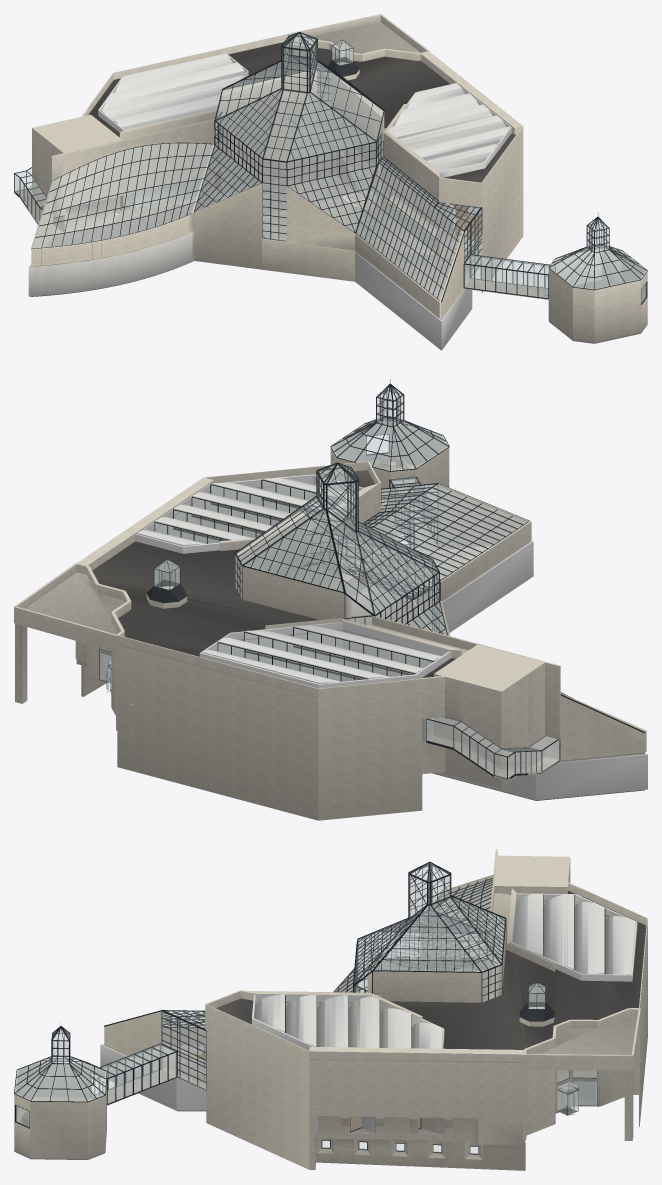
Rendered from building.glb.
3 views of the same model, one above another, from view 1: azimuth 30°, elevation 25°; view 2: azimuth 150°, elevation 25°; view 3: azimuth 270°, elevation 25° (orthographic). The views are drawn at different scales.
Visible parts, largest first — view 1: ENT-01-L00_GLASS, R37_GH_EAST_PORTAL_METAL_HEAD, P05_FRONT_0, P05_MAIN_ATRIUM_BASE_3, R99_W_GROUND_GALLERY_ENTRY_WALL, R24_SHELL_E_00, R82_ENTRY_INNER_WALL, P05_MAIN_ROOF_DECK, P05_FLOOR_L00_GH, R51_SHADE_1_GLASS_00_00, P05_WEST_END, R111_W_GALLERY_APPROACH_SOFFIT (+19 smaller); view 2: P05_FRONT_0, ENT-01-L00_GLASS, R99_W_GROUND_GALLERY_ENTRY_WALL, R37_GH_EAST_PORTAL_METAL_HEAD, P05_MAIN_ROOF_DECK, R24_SHELL_E_00, P05_MAIN_ATRIUM_BASE_3, R14_INNER_WALL_A, R51_SHADE_1_GLASS_00_00, P07_CANOPY_SLAB_ENVELOPE, P05_WEST_END, R111_W_GALLERY_APPROACH_SOFFIT (+11 smaller); view 3: P05_FRONT_0, ENT-01-L00_GLASS, R27_CONTINUOUS_HEAD, R24_SHELL_E_00, R37_GH_EAST_PORTAL_METAL_HEAD, P05_MAIN_ROOF_DECK, R99_W_GROUND_GALLERY_ENTRY_WALL, P07_CORNER_SUPPORT_ENVELOPE, R94_EAST_HIGH_WALL_JOIN, P05_MAIN_ATRIUM_BASE_3, P07_CANOPY_SLAB_ENVELOPE, R111_W_GALLERY_APPROACH_SOFFIT (+13 smaller).
Boxes of the visible parts, x1,y1,x2,y2 form: ENT-01-L00_GLASS: (14, 33, 646, 302); R37_GH_EAST_PORTAL_METAL_HEAD: (31, 32, 647, 304); P05_FRONT_0: (87, 34, 647, 342); P05_MAIN_ATRIUM_BASE_3: (119, 70, 440, 234); R99_W_GROUND_GALLERY_ENTRY_WALL: (28, 53, 645, 350); R24_SHELL_E_00: (100, 53, 510, 252); R82_ENTRY_INNER_WALL: (51, 119, 214, 232); P05_MAIN_ROOF_DECK: (88, 42, 515, 182); P05_FLOOR_L00_GH: (31, 117, 647, 343); R51_SHADE_1_GLASS_00_00: (217, 58, 374, 160); P05_WEST_END: (31, 179, 355, 250); R111_W_GALLERY_APPROACH_SOFFIT: (35, 62, 523, 238); P05_FRONT_0: (117, 447, 529, 820); ENT-01-L00_GLASS: (100, 386, 559, 778); R99_W_GROUND_GALLERY_ENTRY_WALL: (100, 422, 647, 800); R37_GH_EAST_PORTAL_METAL_HEAD: (154, 383, 644, 733); P05_MAIN_ROOF_DECK: (92, 470, 456, 677); R24_SHELL_E_00: (137, 478, 639, 762); P05_MAIN_ATRIUM_BASE_3: (235, 483, 461, 658); R14_INNER_WALL_A: (421, 673, 528, 786); R51_SHADE_1_GLASS_00_00: (245, 503, 436, 613); P07_CANOPY_SLAB_ENVELOPE: (14, 563, 123, 652); P05_WEST_END: (413, 590, 646, 760); R111_W_GALLERY_APPROACH_SOFFIT: (117, 485, 542, 735); P05_FRONT_0: (14, 888, 647, 1169); ENT-01-L00_GLASS: (15, 863, 596, 1153); R27_CONTINUOUS_HEAD: (309, 1047, 525, 1145); R24_SHELL_E_00: (254, 893, 635, 1048); R37_GH_EAST_PORTAL_METAL_HEAD: (14, 861, 605, 1128); P05_MAIN_ROOF_DECK: (216, 891, 646, 1049); R99_W_GROUND_GALLERY_ENTRY_WALL: (16, 893, 637, 1134); P07_CORNER_SUPPORT_ENVELOPE: (523, 1008, 639, 1140); R94_EAST_HIGH_WALL_JOIN: (205, 991, 525, 1170); P05_MAIN_ATRIUM_BASE_3: (241, 888, 516, 1002); P07_CANOPY_SLAB_ENVELOPE: (524, 1008, 640, 1070); R111_W_GALLERY_APPROACH_SOFFIT: (206, 856, 647, 1063).
Size of the model in its own units: 80.81 by 35.94 by 93.32.
79 materials, 36 textured.
